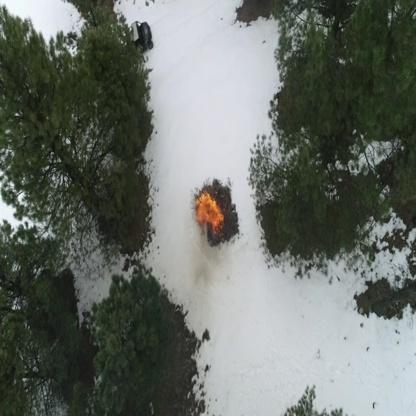Fire: (193, 190, 225, 237)
